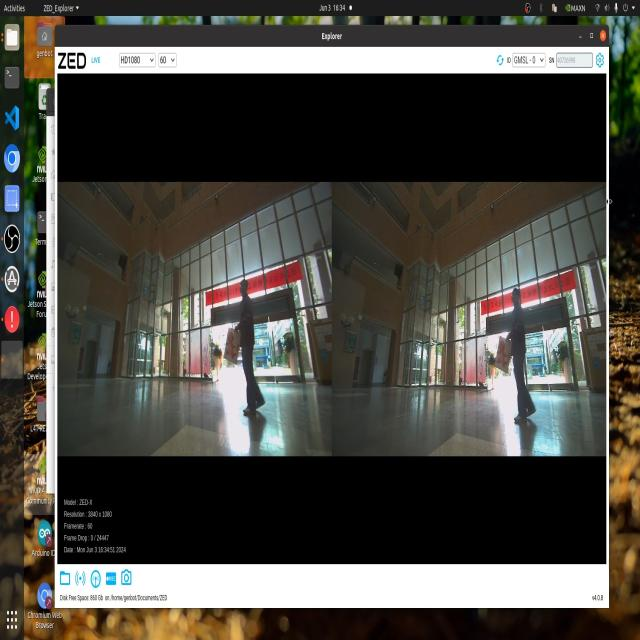red: (496, 332, 517, 368), (223, 329, 239, 364)
